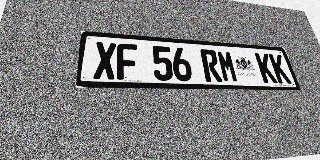5: (152, 46, 174, 81)
6: (171, 47, 193, 81)
F: (117, 43, 138, 80)
K: (254, 53, 278, 83), (268, 54, 292, 84)
M: (216, 50, 239, 82)
R: (200, 49, 223, 82)
X: (93, 42, 116, 80)
